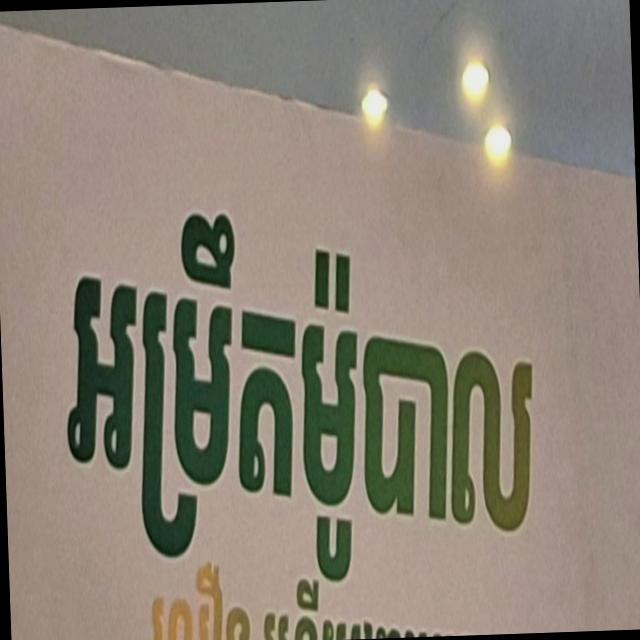Yolov11_80vkh: (44, 100, 587, 608)
